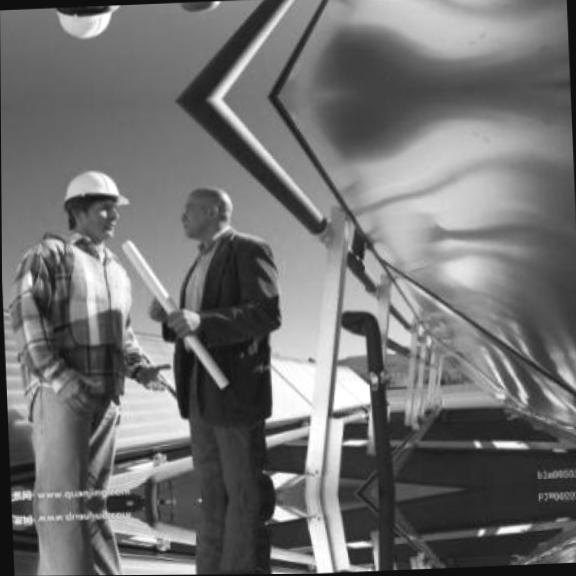safety_vest: (7, 167, 167, 503), (149, 181, 296, 499), (19, 502, 169, 576), (161, 496, 299, 575)
